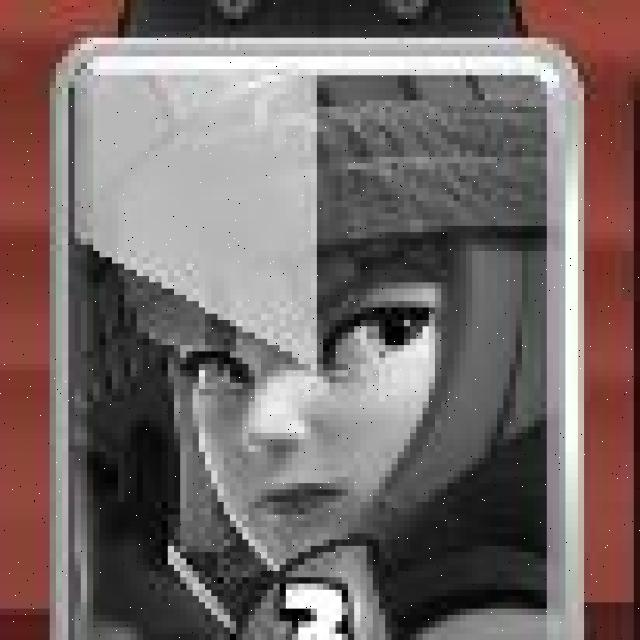Firecracker: (51, 40, 586, 640)
